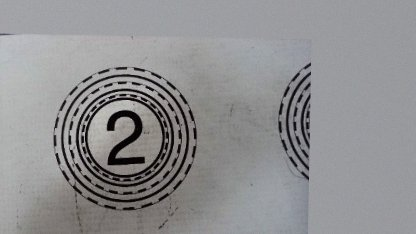2r: (49, 65, 200, 211)
